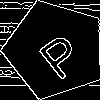P: (30, 25, 87, 82)
